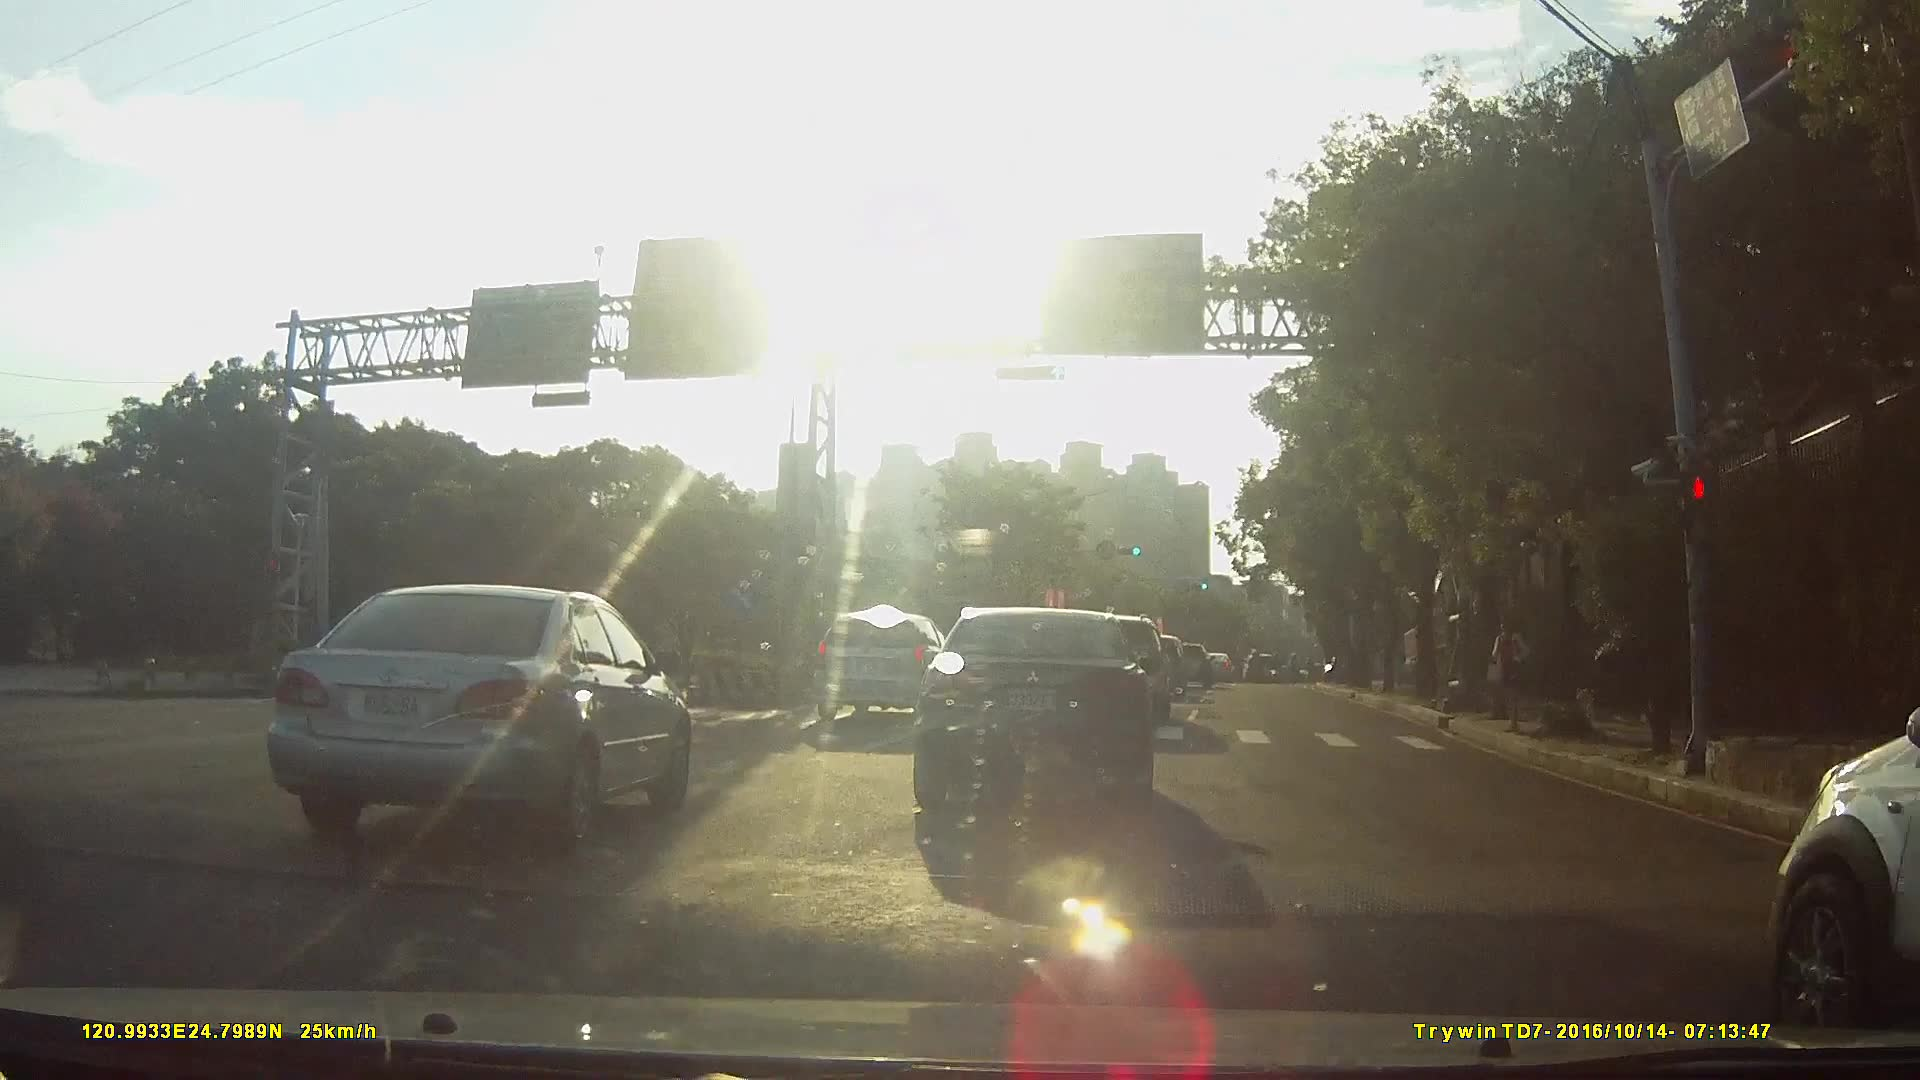pedestrian: (1482, 616, 1535, 731)
vehicle: (241, 578, 690, 851), (1705, 636, 1920, 1040), (893, 607, 1164, 817), (803, 607, 948, 720), (1157, 640, 1205, 687), (1193, 650, 1227, 678)
